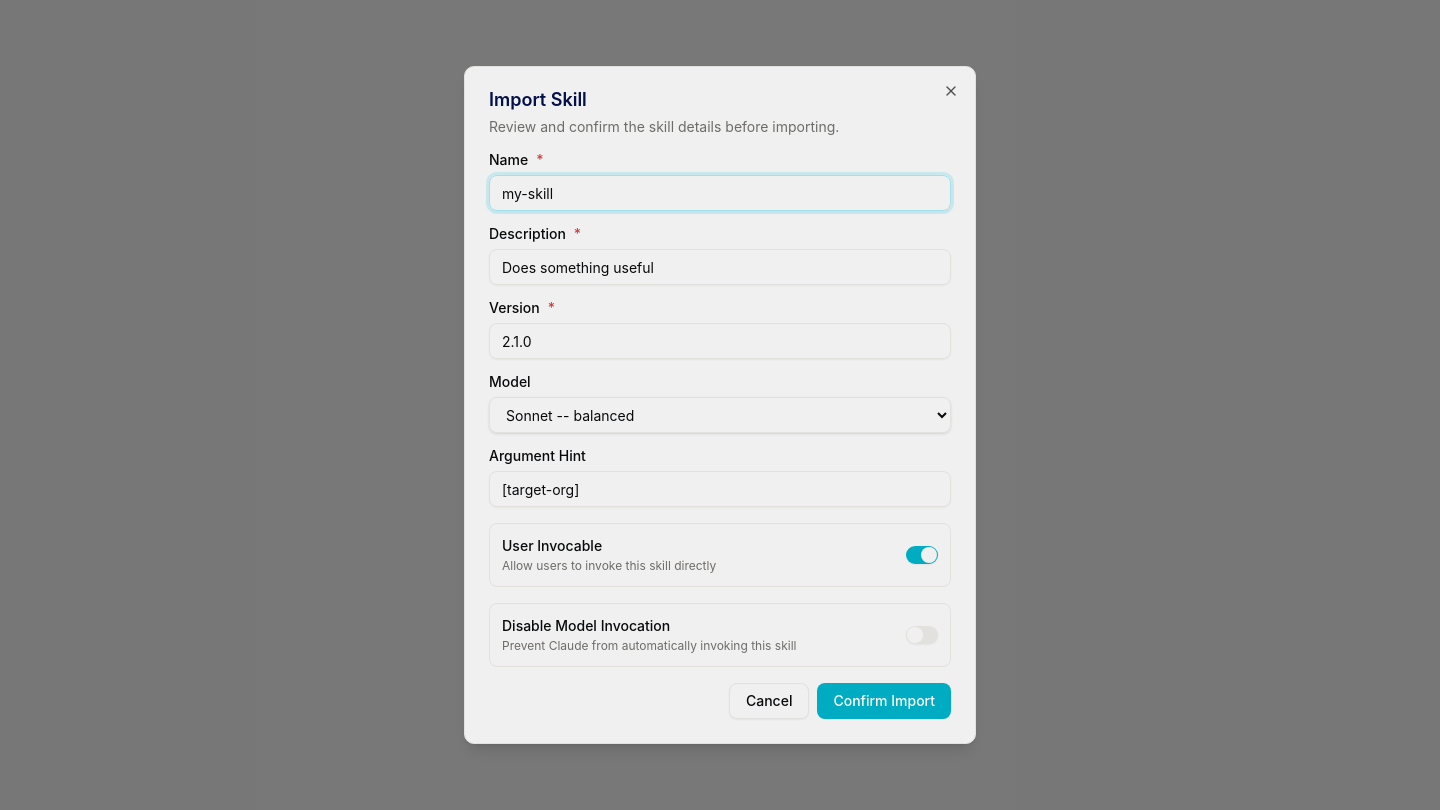
Test: ImportSkillDialog › Confirm Import button state › is disabled when name is empty
Clear the field labelled "Name *" at x=720, y=193, box [489,175,951,211]
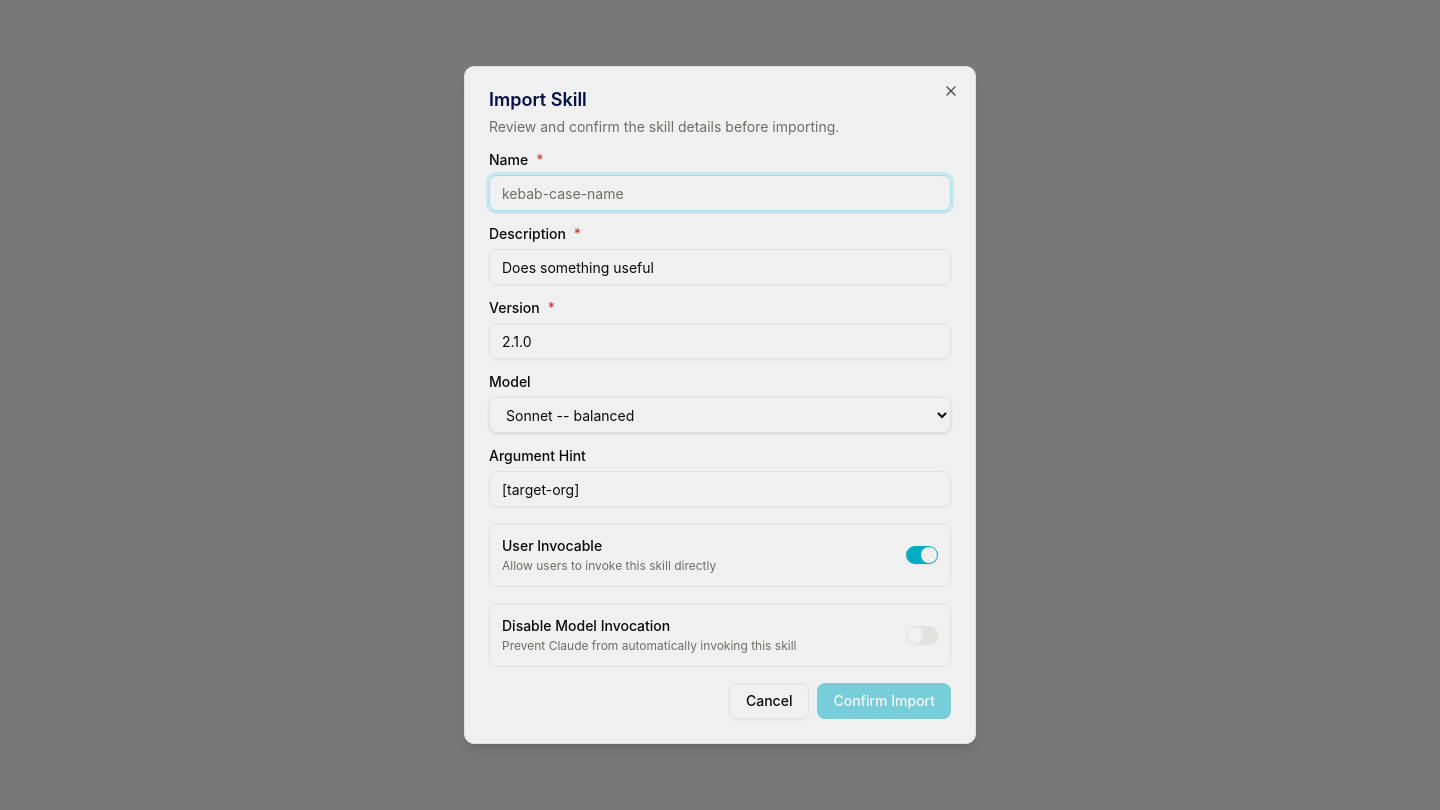
Expected: the button "Confirm Import" is disabled, [817,683,951,719]
